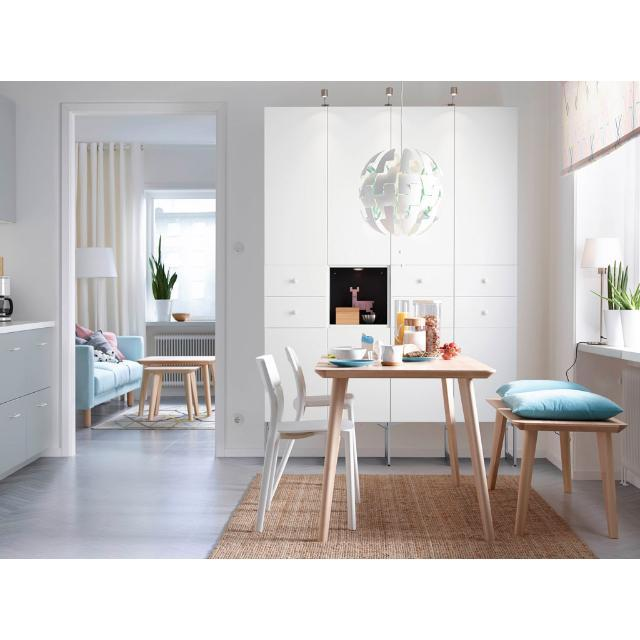couch: (75, 336, 144, 427)
curtain: (76, 142, 146, 336), (560, 81, 640, 175), (76, 278, 94, 330)
dresser: (265, 107, 518, 422), (350, 380, 444, 422)
lamp: (582, 238, 625, 346)
light: (360, 81, 444, 235)
pillow: (503, 389, 624, 421), (497, 379, 590, 399)
plant: (149, 236, 178, 322), (608, 284, 640, 347), (604, 262, 628, 346)
rug: (210, 475, 596, 558), (92, 405, 215, 430)
stool: (486, 398, 628, 538), (145, 366, 199, 421)
table: (315, 355, 495, 541), (139, 356, 216, 416)
